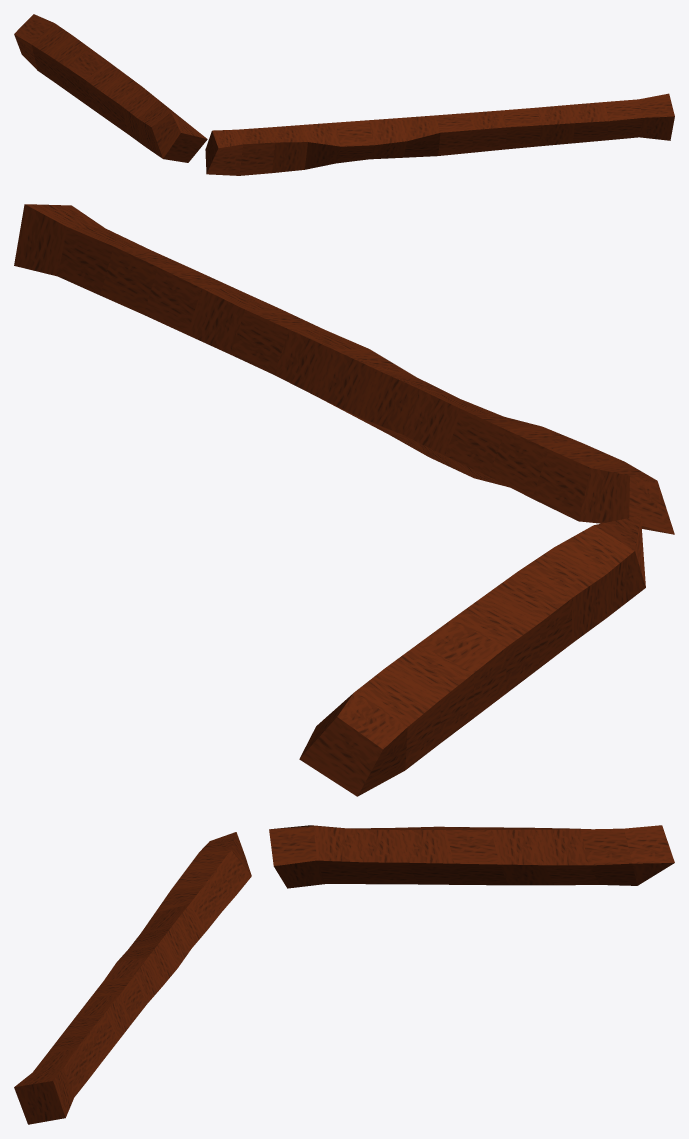
The model's file is Broken Twig.fbx.
The picture shows the model from 3 angles, top to bottom: view 1: azimuth 30°, elevation 25°; view 2: azimuth 150°, elevation 25°; view 3: azimuth 270°, elevation 25°; orthographic projection. The views are drawn at different scales.
Visible parts, largest first — view 1: Broken twig; view 2: Broken twig; view 3: Broken twig.
Part boxes in pixels (bbox=[...]): Broken twig: bbox=[14, 14, 674, 175]; Broken twig: bbox=[14, 204, 674, 796]; Broken twig: bbox=[14, 825, 674, 1124].
Size of the model in its own units: 0.7136 by 0.0745 by 0.7525.
